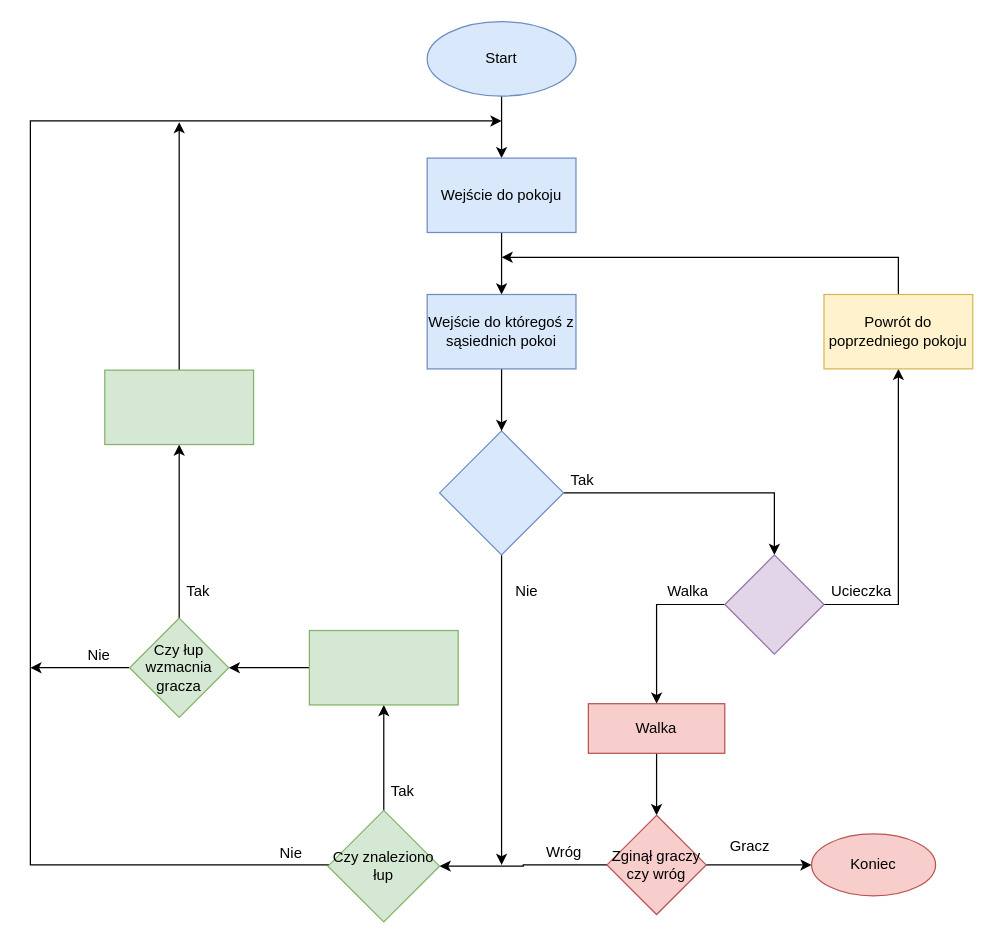
Image size: 994x944. Some labels were removed from this diagram. Here are the shapes that lost their labels. From the top down, the centre of each, then its label:
At (x=179, y=407): "Wzmocnienie gracza".
At (x=501, y=492): "Czy znaleziono przeciwnika".
At (x=774, y=604): "Wybrano walkę czy ucieczkę".
At (x=383, y=667): "Podniesienie łupu".
